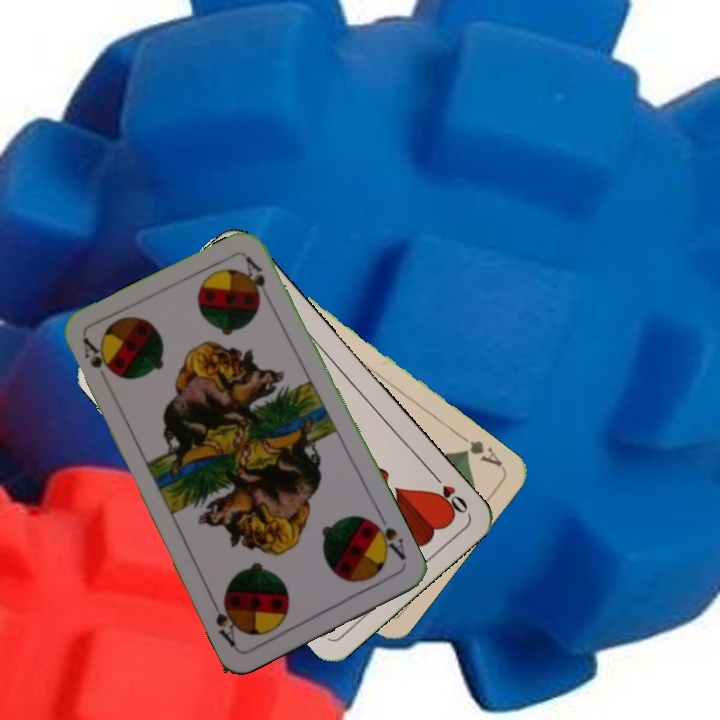GA: (454, 429, 506, 470)
HO: (427, 468, 471, 518)
SA: (78, 333, 117, 389), (367, 512, 409, 563)
